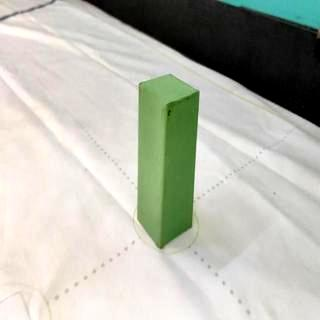greenbox: (137, 72, 200, 249)
